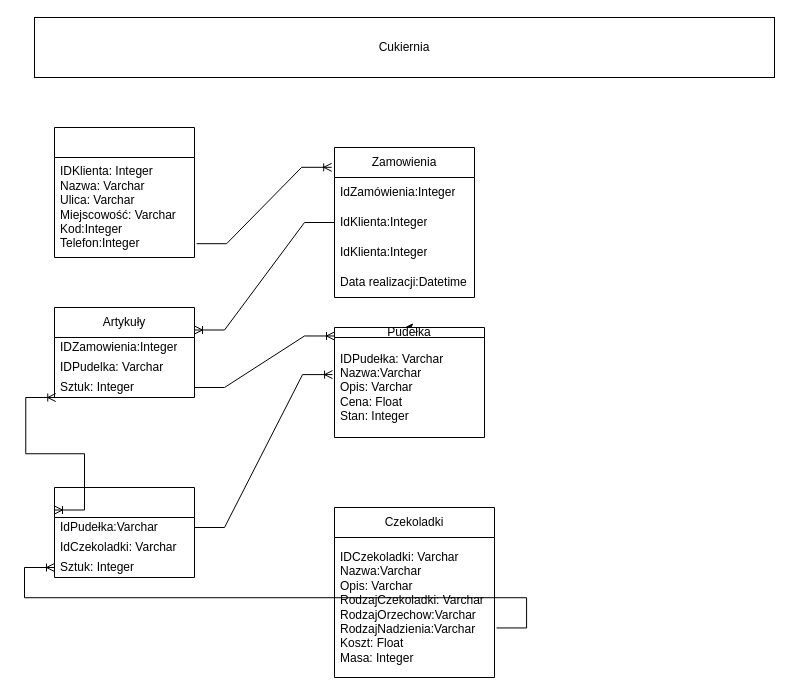
Image size: 792x695. Some labels were removed from this diagram. Here are the shapes that lost their labels. From the top down, the box of each, then its label:
(54, 126, 194, 258): Klienci
(54, 486, 194, 578): Zawartosć
